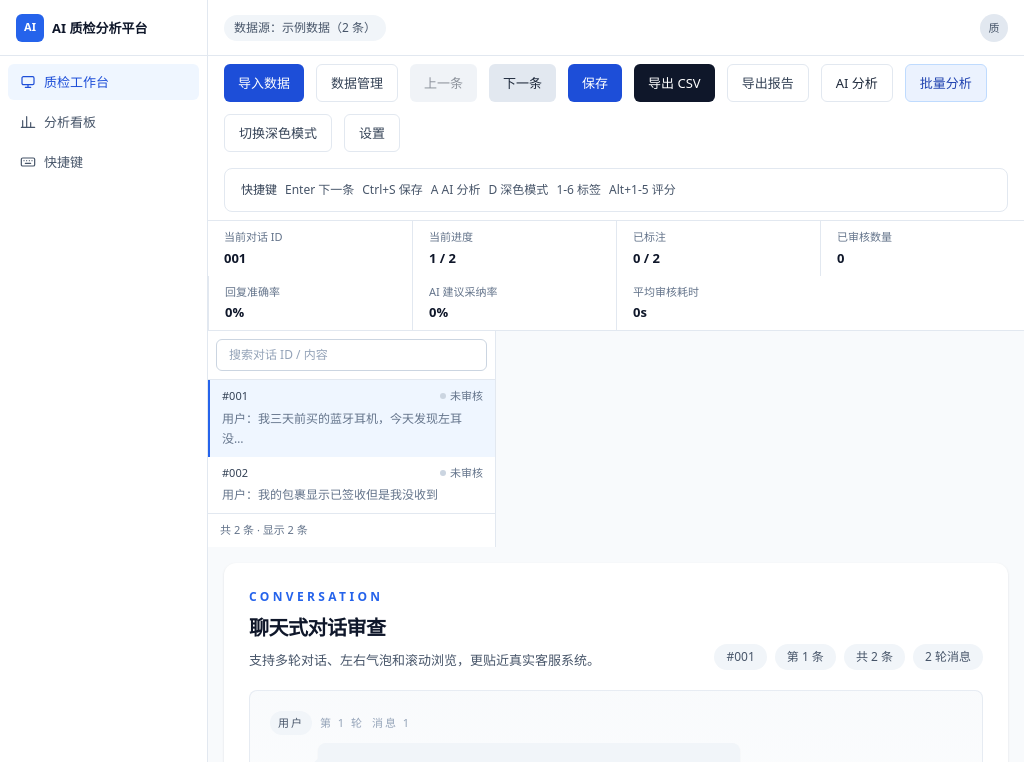
it: 概览统计与行状态徽标 › 先标注 + AI 分析再打开面板：概览已审核/未审核/有 AI/问题对话同步，行徽标显示已审核 + AI；「有 AI 建议」状态可筛出 001
Expected: the button "导出报告" is shown, [727,64,809,102]
Click the button "AI 分析".
click(857, 83)  # box [821,64,893,102]
(page scrolled)
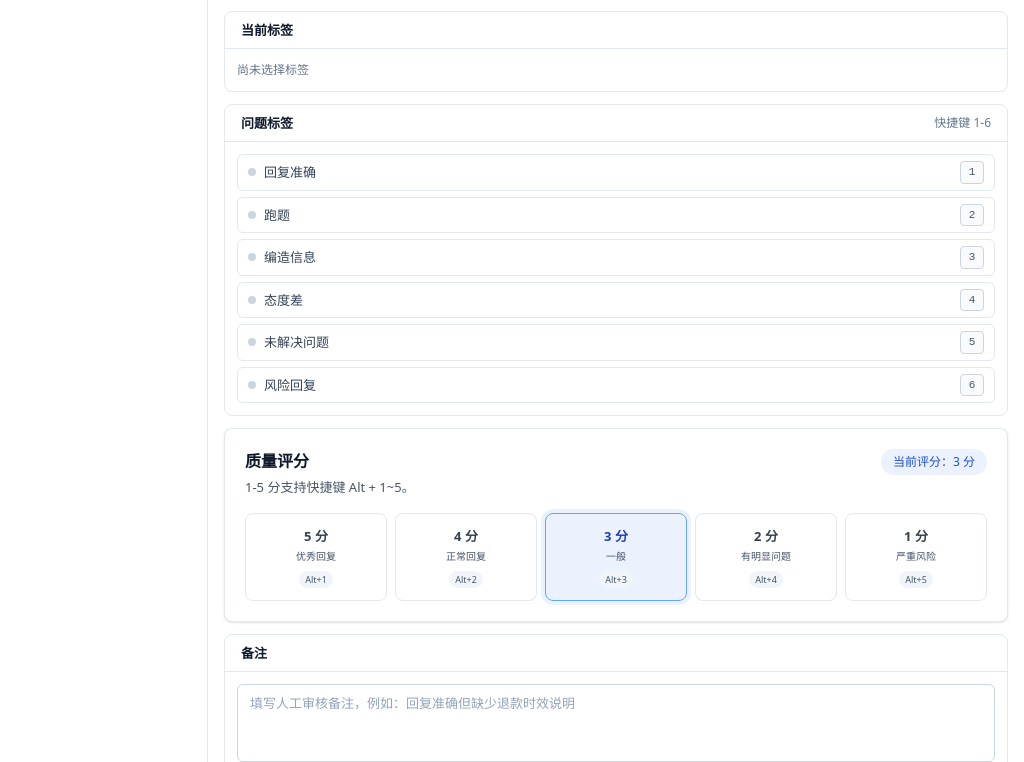
Click the button "风险回复 6".
click(290, 385)  # box [237,366,995,403]
(page scrolled)
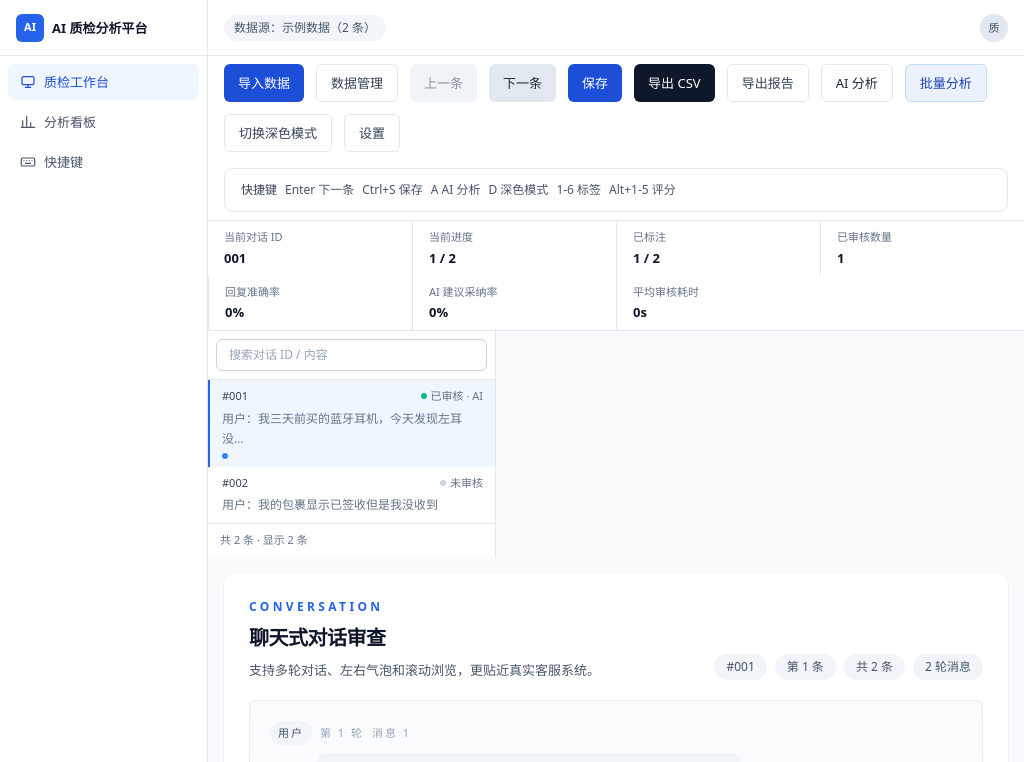
Click the button "数据管理".
click(357, 83)  # box [316,64,398,102]
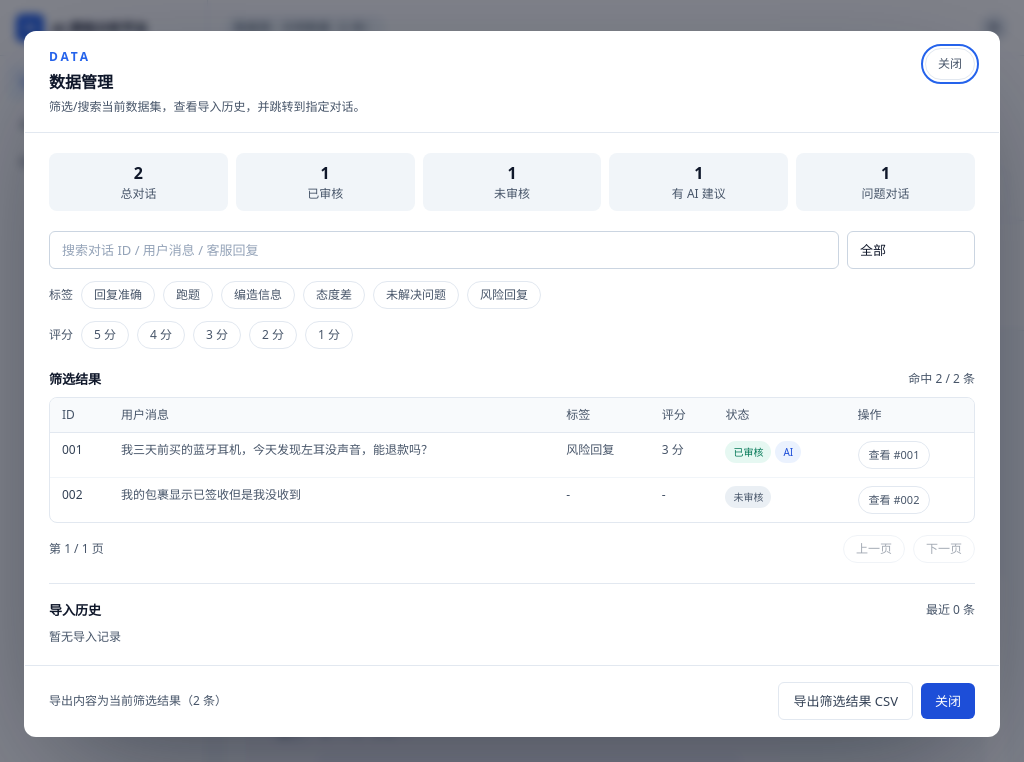
Expected: the heading "数据管理" is shown, [49,71,113,93]
Expected: the text "总对话" is shown, [120,185,156,202]
Expected: the text "已审核" next to "总对话" is shown, [307,185,343,202]
Select "有 AI 建议" in the dropdown named "审核状态" at coordinates (911, 250), box [847,231,975,269]
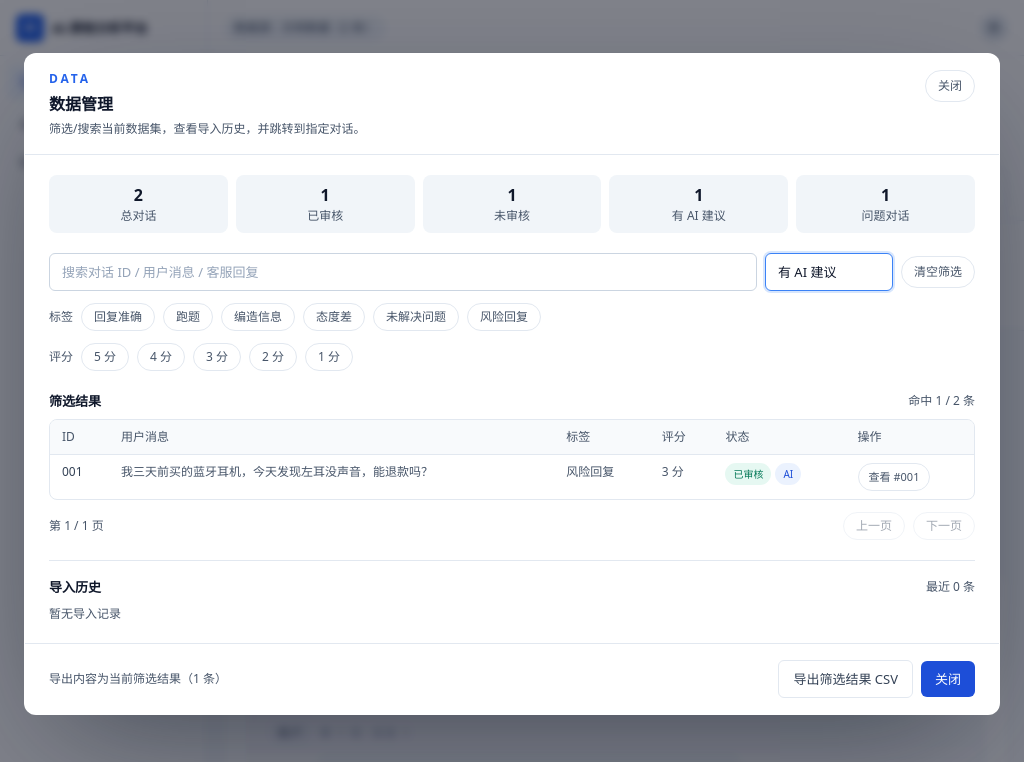
Expected: the button "查看 #001" is shown, [858,463,930,491]
Expected: the text "命中 1 / 2 条" is shown, [908,392,975,410]
Expected: the button "查看 #002" is gone
